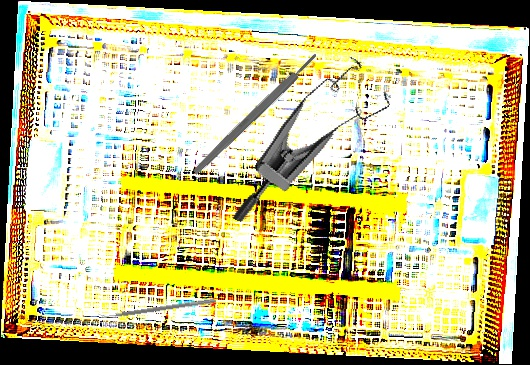Scalpel Handle: (191, 51, 320, 177)
Spatula Surgical: (97, 293, 216, 322)
Speculum: (231, 39, 401, 259)
